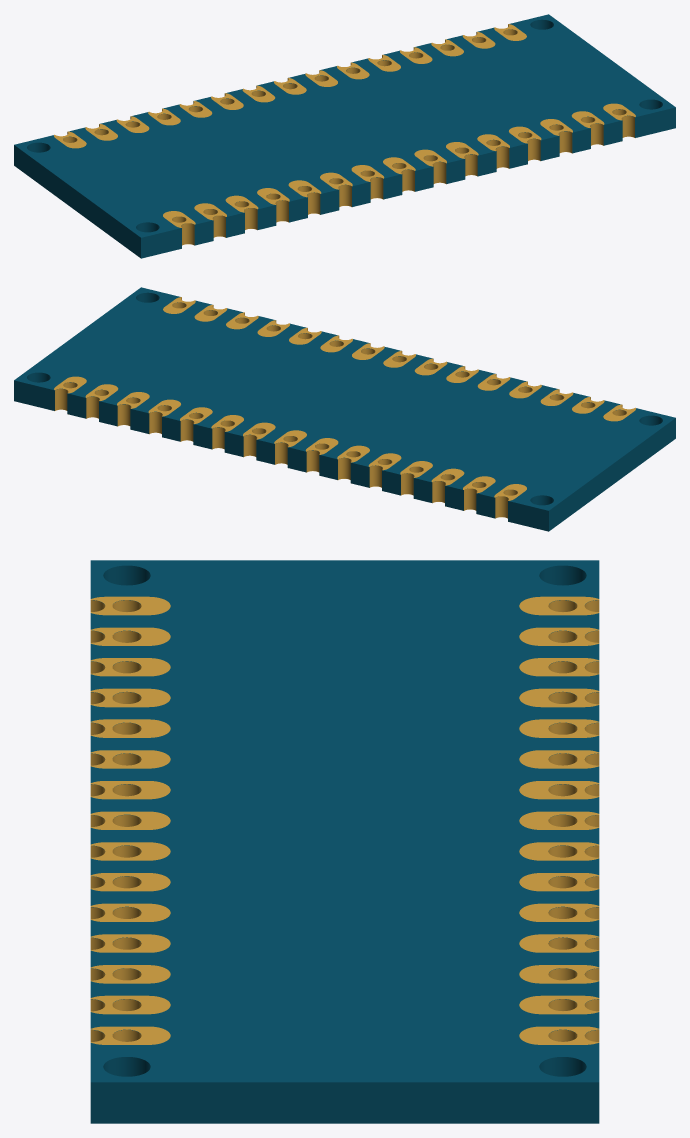
The model's file is pcb-6d7a2cb42f4c.glb.
3 views of the same model, one above another, from view 1: azimuth 30°, elevation 25°; view 2: azimuth 150°, elevation 25°; view 3: azimuth 270°, elevation 25° (orthographic). The views are drawn at different scales.
Visible parts, largest first — view 1: substrate, terminals; view 2: substrate, terminals; view 3: substrate, terminals.
Boxes of the visible parts, bbox=[...] form: substrate: bbox=[14, 14, 675, 258]; terminals: bbox=[54, 24, 635, 245]; substrate: bbox=[14, 287, 675, 531]; terminals: bbox=[54, 297, 635, 518]; substrate: bbox=[90, 560, 599, 1123]; terminals: bbox=[90, 596, 599, 1044].
Size of the model in its own units: 0.0432 by 0.00162 by 0.0178.
